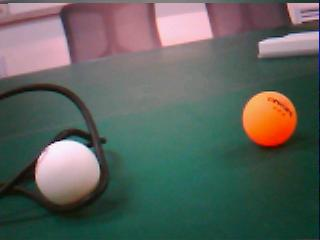oball: (242, 90, 297, 147)
